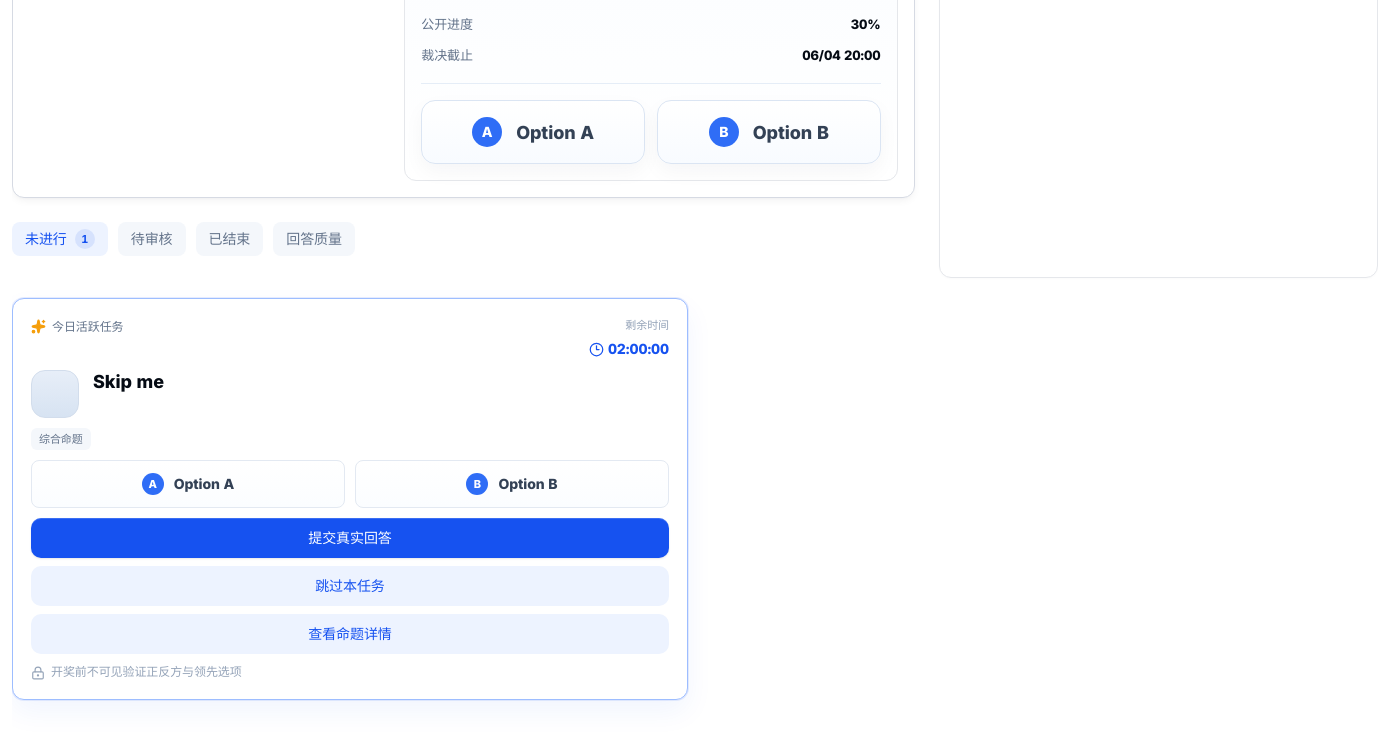
AdjudicationPage lifecycle integration › moves a skipped task out of pending and into 已结束 with reason and cooldown metadata
(page scrolled)
Click the button "跳过本任务".
click(350, 586)  # box x1=31 y1=566 x2=669 y2=606
(page scrolled)
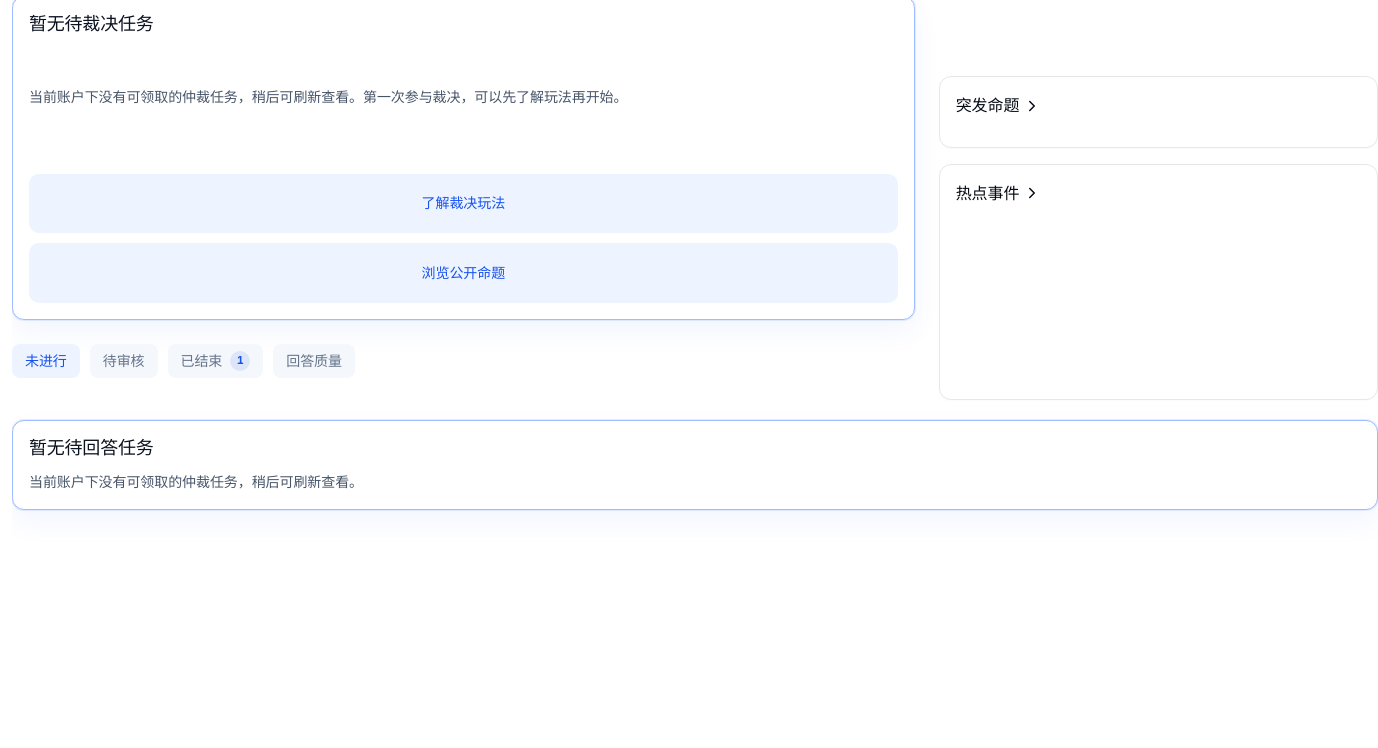
Expected: the button "跳过本任务" is gone
Click the button "已结束 1".
click(215, 361)  # box x1=168 y1=344 x2=263 y2=378
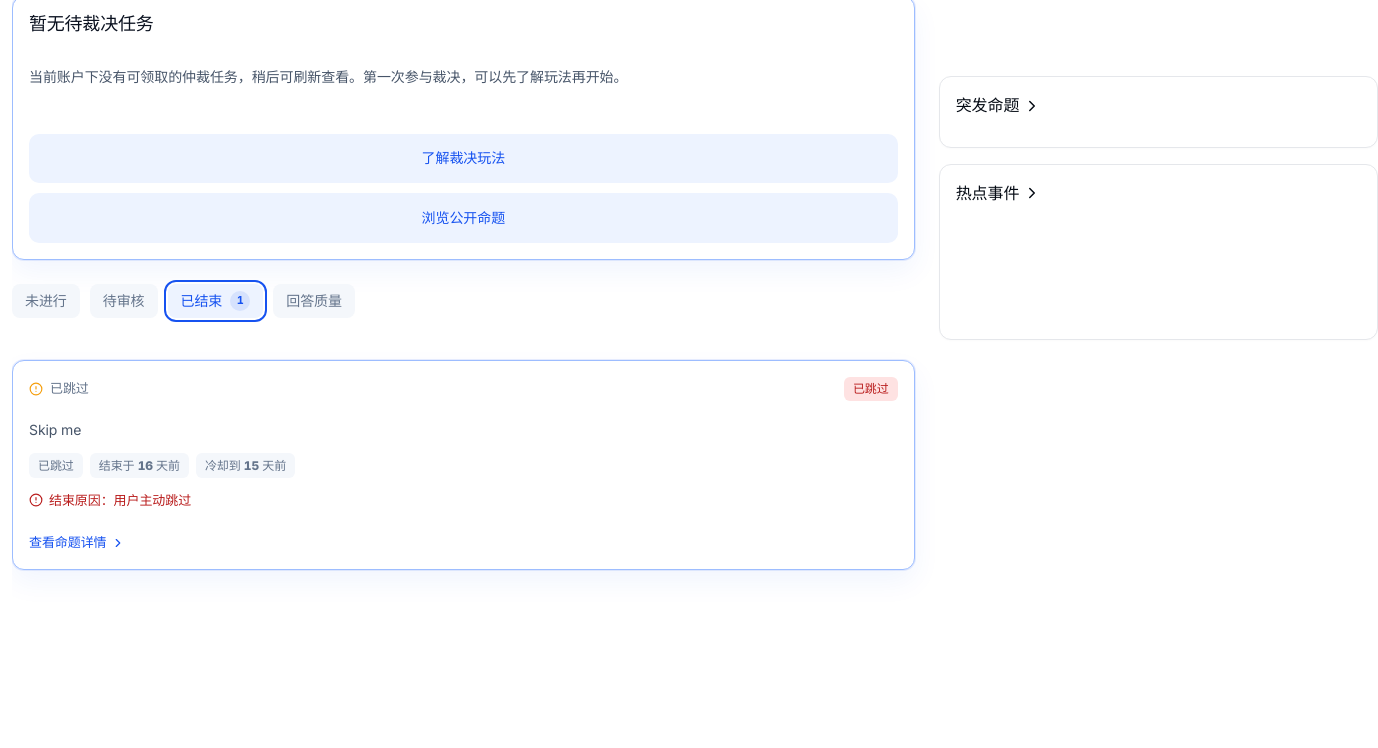
Expected: the heading "Skip me" is shown, x1=29 y1=421 x2=81 y2=438
Expected: the text "结束原因：用户主动跳过" is shown, x1=29 y1=492 x2=191 y2=508
Expected: the text "冷却到 15 天前" is shown, x1=196 y1=453 x2=295 y2=478
